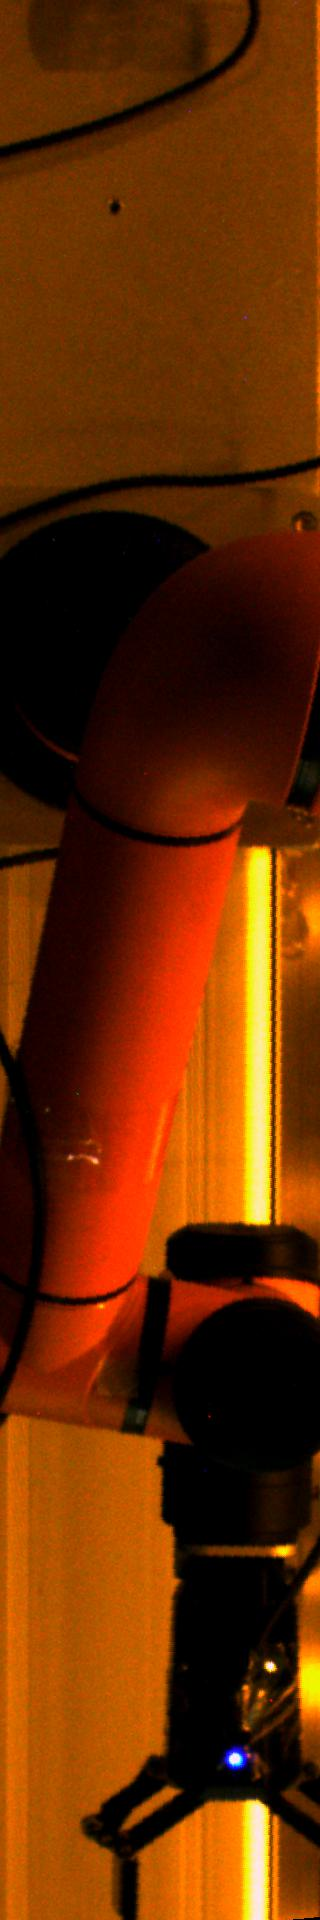keyPoint_1: (219, 1742, 250, 1772)
keyPoint_2: (99, 193, 129, 223)
